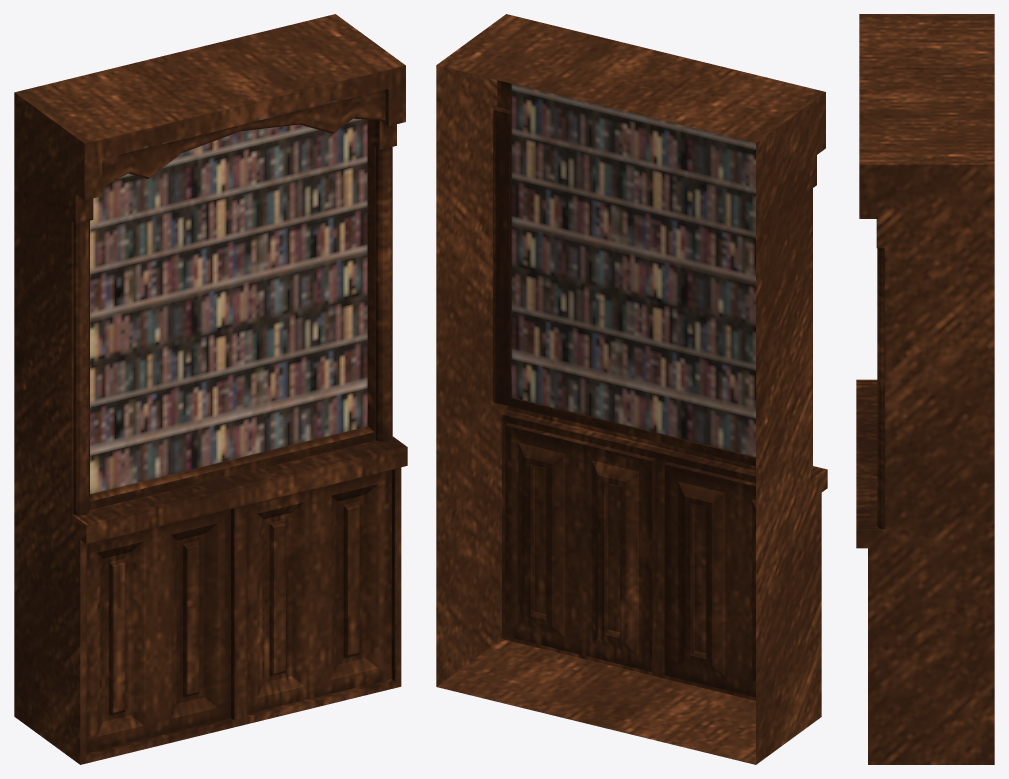
The model's file is Bookshelf.fbx.
3 renders of one model, left to right at view 1: azimuth 30°, elevation 25°; view 2: azimuth 150°, elevation 25°; view 3: azimuth 270°, elevation 25°, orthographic. The views are drawn at different scales.
Parts seen in each view (by area): view 1: Bookshelf; view 2: Bookshelf; view 3: Bookshelf.
Part boxes in pixels (x1,y1,x2,y2): Bookshelf: [14, 14, 407, 764]; Bookshelf: [436, 14, 827, 764]; Bookshelf: [856, 14, 994, 764].
Bounding box in the file's own units: 364 × 677 × 141.
1 material, 1 textured.
